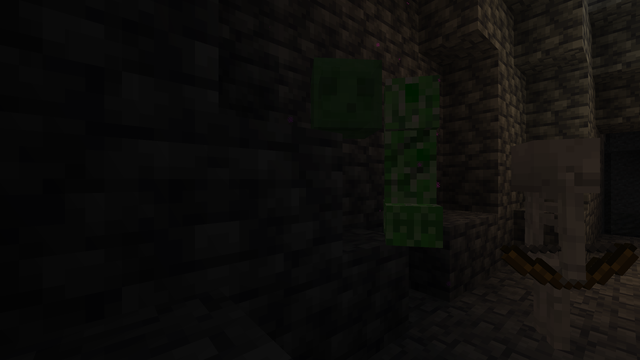creepers: (368, 61, 449, 248)
slimes: (298, 47, 387, 138)
squelettes: (506, 136, 595, 358)
